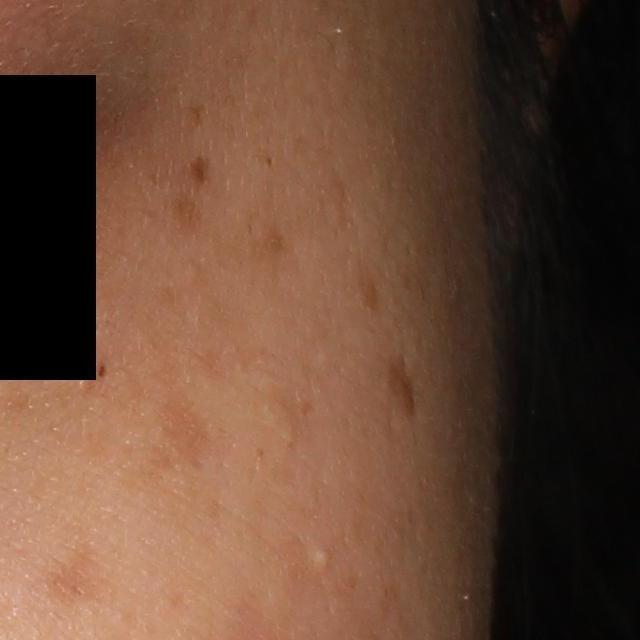comedo: (311, 539, 331, 570)
melasma: (121, 391, 216, 490), (44, 525, 106, 610), (383, 351, 423, 427), (357, 254, 383, 320), (164, 200, 202, 233)
